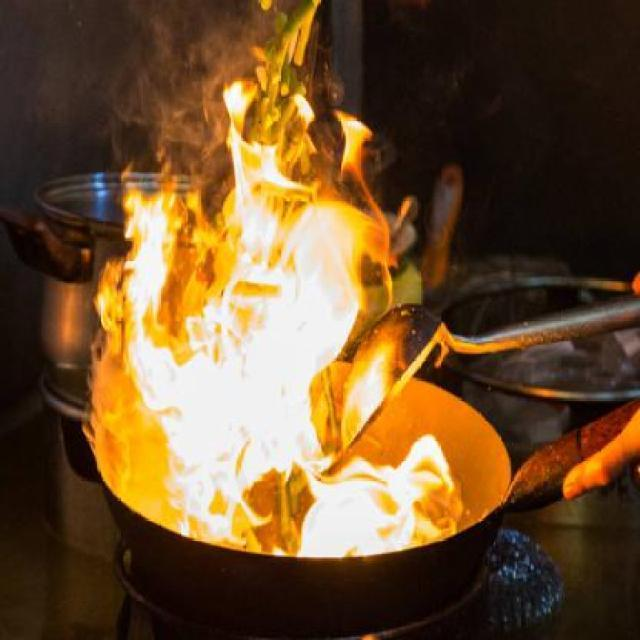Fire: (80, 60, 487, 568)
Smoke: (103, 0, 403, 548)
